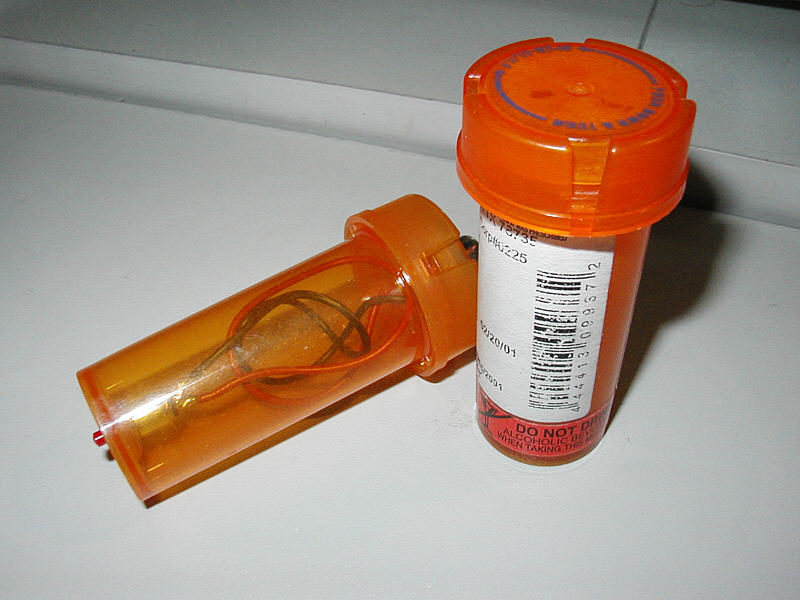pill bottle: (78, 194, 483, 510), (459, 35, 695, 468)
